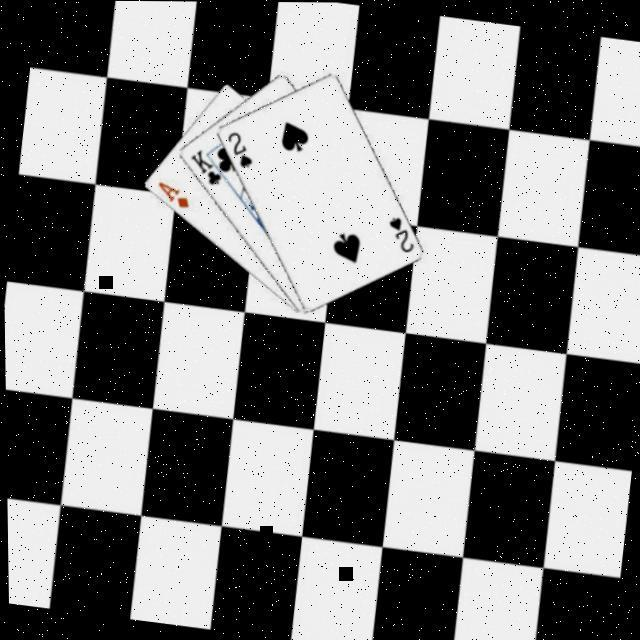2S: (218, 126, 258, 170), (380, 210, 418, 254)
AD: (150, 176, 191, 210)
KC: (182, 144, 234, 189)
